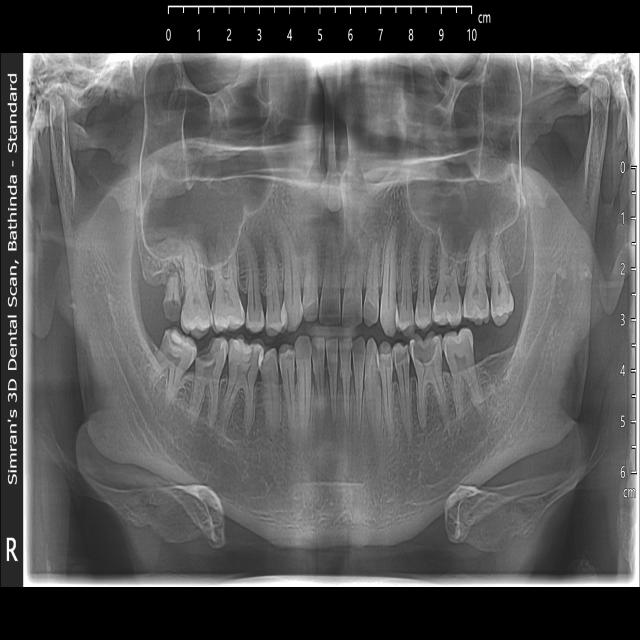Caries: (151, 321, 195, 373), (410, 340, 440, 364), (199, 340, 218, 365), (393, 346, 408, 371)
Filling: (228, 338, 263, 379)
Root Piece: (162, 264, 182, 326)
